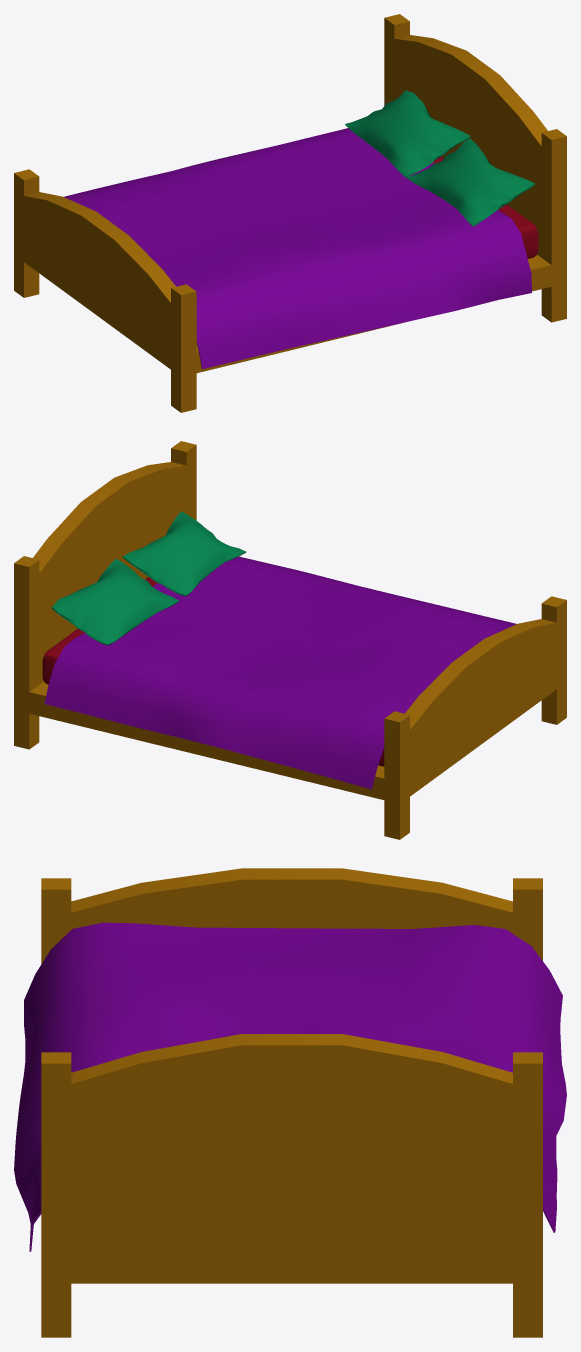
The model's file is NewBed.fbx.
3 views of the same model, one above another, from view 1: azimuth 30°, elevation 25°; view 2: azimuth 150°, elevation 25°; view 3: azimuth 270°, elevation 25° (orthographic). The views are drawn at different scales.
Parts seen in each view (by area): view 1: Bed; view 2: Bed; view 3: Bed.
Part boxes in pixels (<box>): Bed: <box>14,14,566,412</box>; Bed: <box>14,441,566,839</box>; Bed: <box>14,868,566,1337</box>.
Size of the model in its own units: 7947 by 3832 by 6570.
